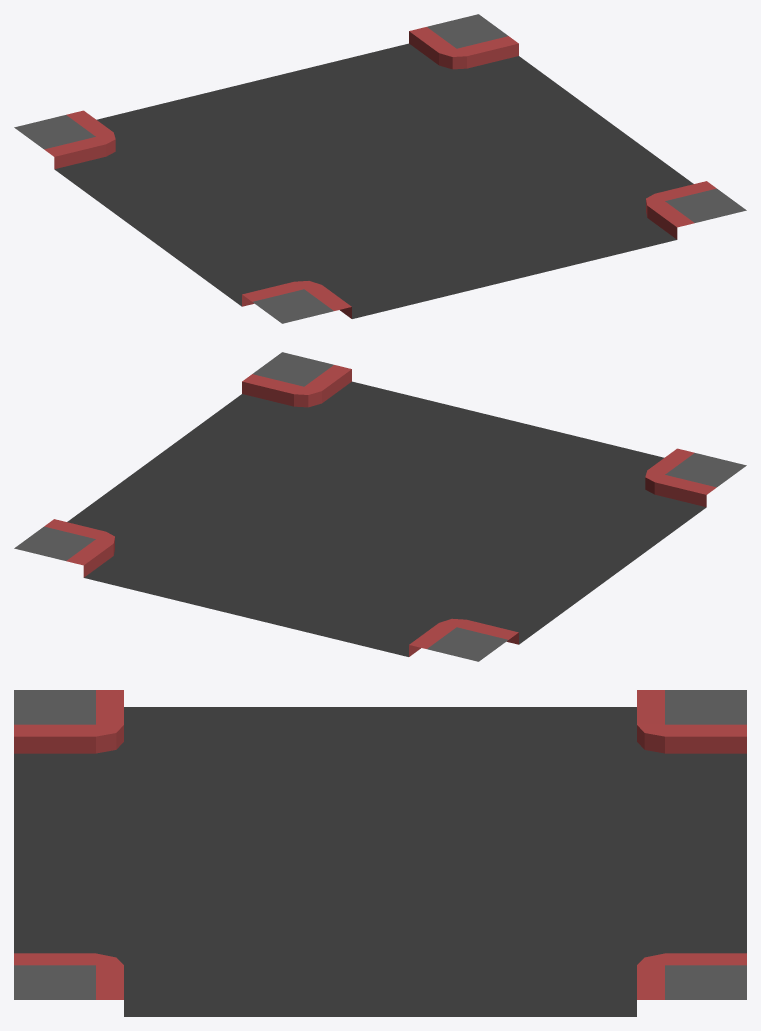
File: SM_Crossroads02.FBX
The picture shows the model from 3 angles, top to bottom: view 1: azimuth 30°, elevation 25°; view 2: azimuth 150°, elevation 25°; view 3: azimuth 270°, elevation 25°; orthographic projection. The views are drawn at different scales.
Visible parts, largest first — view 1: Plane011; view 2: Plane011; view 3: Plane011.
Part boxes in pixels (bbox=[...]): Plane011: bbox=[14, 14, 746, 323]; Plane011: bbox=[14, 352, 746, 661]; Plane011: bbox=[14, 690, 746, 1016].
Bounding box in the file's own units: 1000 × 25.47 × 1000.
